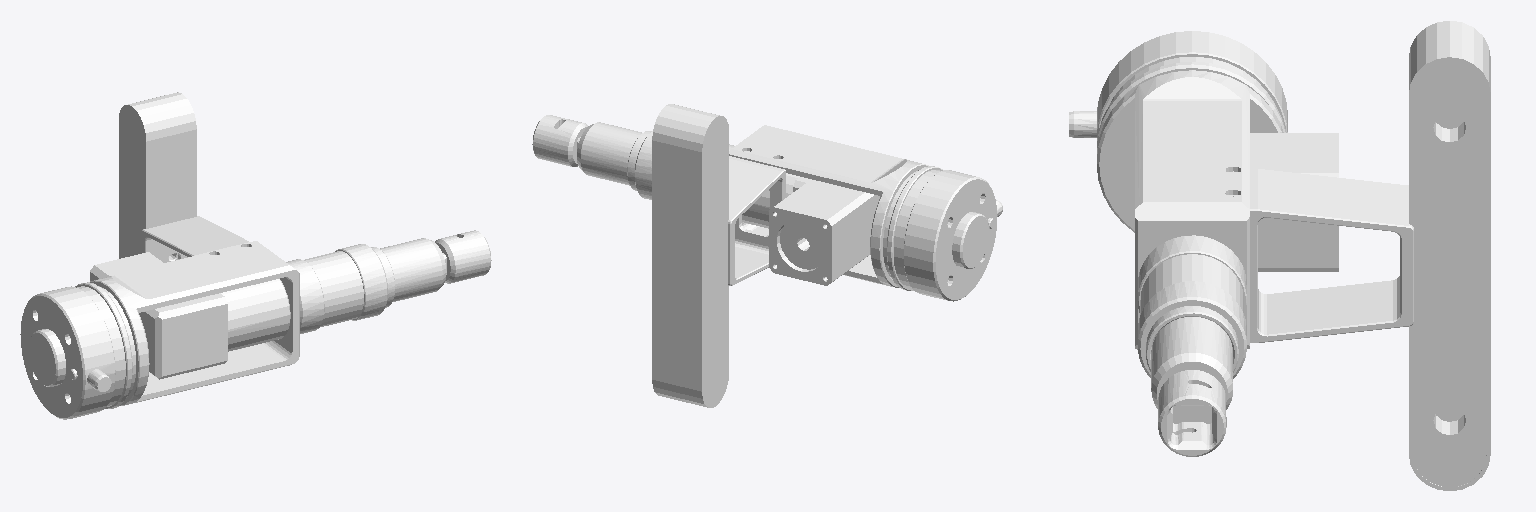
URDF robot description (tool_camera):
<?xml version="1.0"?>
<robot 
  name="tool_camera">

  <link
    name="tool_base_link">
    <inertial>
      <origin
        xyz="0.089082 -6.8669E-06 -0.005707"
        rpy="0 0 0" />
      <mass
        value="0.48825" />
      <inertia
        ixx="0.00030597"
        ixy="1.8672E-07"
        ixz="1.017E-05"
        iyy="0.0021846"
        iyz="-2.132E-08"
        izz="0.0021122" />
    </inertial>
    <visual>
      <origin
        xyz="0 0 0"
        rpy="0 0 0" />
      <geometry>
        <mesh
          filename="package://ur_description/meshes/tool_camera/tool_base_link.STL" />
      </geometry>
      <material
        name="">
        <color
          rgba="1 1 1 1" />
      </material>
    </visual>
    <collision>
      <origin
        xyz="0 0 0"
        rpy="0 0 0" />
      <geometry>
        <mesh
          filename="package://ur_description/meshes/tool_camera/tool_base_link.STL" />
      </geometry>
    </collision>
  </link>
  <link
    name="tool_camera_link">
    <inertial>
      <origin
        xyz="-1.3878E-17 0.015013 0.015594"
        rpy="0 0 0" />
      <mass
        value="0.1566" />
      <inertia
        ixx="2.4411E-05"
        ixy="-3.8372E-22"
        ixz="4.0067E-21"
        iyy="0.00038308"
        iyz="-2.256E-09"
        izz="0.00038168" />
    </inertial>
    <visual>
      <origin
        xyz="0 0 0"
        rpy="0 0 0" />
      <geometry>
        <mesh
          filename="package://ur_description/meshes/tool_camera/camera_link.STL" />
      </geometry>
      <material
        name="">
        <color
          rgba="1 1 1 1" />
      </material>
    </visual>
    <collision>
      <origin
        xyz="0 0 0"
        rpy="0 0 0" />
      <geometry>
        <mesh
          filename="package://ur_description/meshes/tool_camera/camera_link.STL" />
      </geometry>
    </collision>
  </link>
  <joint
    name="camera_set_joint"
    type="fixed">
    <origin
      xyz="0.10465 0.079 0"
      rpy="0 1.5708 0" />
    <parent
      link="tool_base_link" />
    <child
      link="tool_camera_link" />
    <axis
      xyz="0 0 0" />
  </joint>
</robot>

--- What the picture shows (computed from the rendered views, not written in the file) ---
Views: 3 orthographic renders of the robot side by side, from view 1: azimuth 30°, elevation 25°; view 2: azimuth 150°, elevation 25°; view 3: azimuth 270°, elevation 25°.
Model tool_camera with 2 links and 1 joints (1 fixed), rooted at tool_base_link, posed every joint at zero.
Links seen in each view (by area): view 1: tool_base_link, tool_camera_link; view 2: tool_base_link, tool_camera_link; view 3: tool_base_link, tool_camera_link.
Link boxes in pixels (bbox=[...]): tool_base_link: bbox=[20, 216, 491, 419]; tool_camera_link: bbox=[119, 92, 196, 261]; tool_base_link: bbox=[532, 115, 1002, 301]; tool_camera_link: bbox=[652, 104, 728, 407]; tool_base_link: bbox=[1069, 31, 1413, 456]; tool_camera_link: bbox=[1409, 21, 1490, 490].
Bounding box of the posed robot: 0.2745 × 0.154 × 0.175 m (x, y, z).
Meshes: 2 distinct files referenced, 2 mesh visuals loaded (2 binary STL).
